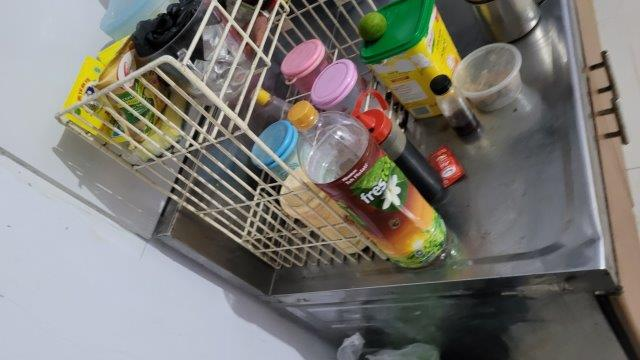botolplastik: (288, 101, 447, 269)
